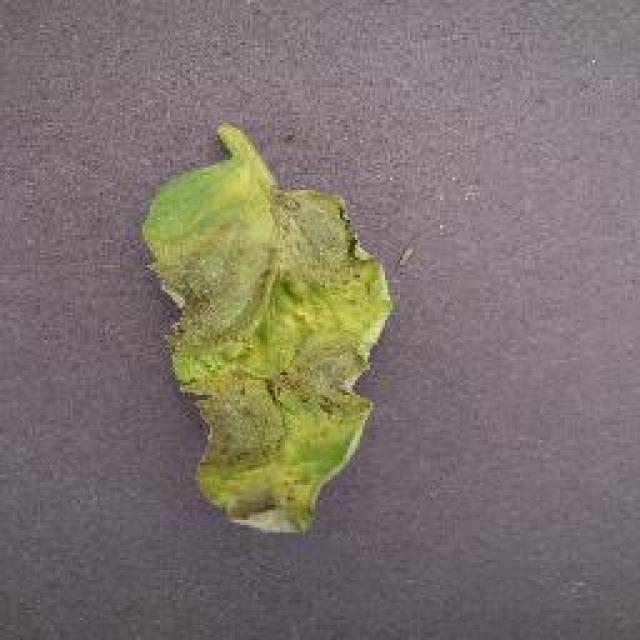Tomato___Late_blight: (140, 125, 392, 538)
